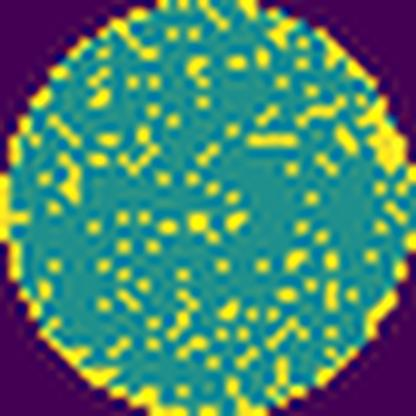Edge-Loc: (358, 94, 411, 180)
